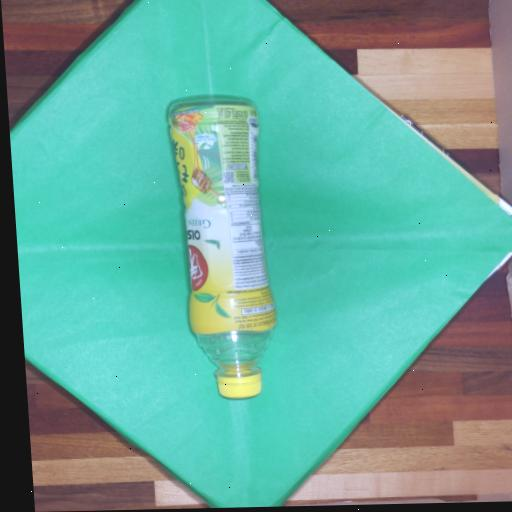bottle: (168, 101, 275, 398)
